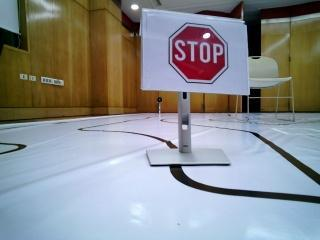stop: (149, 12, 250, 89)
